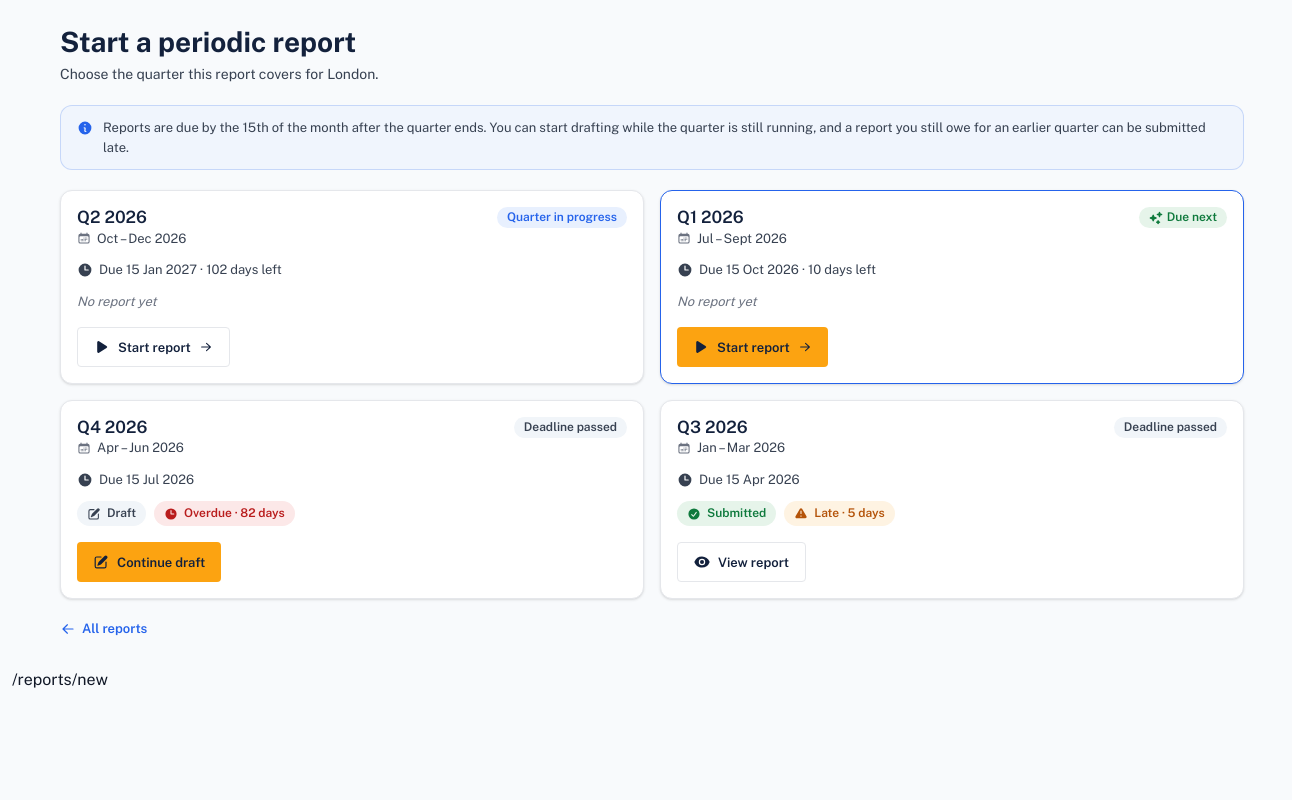
it: StartReportPage › shows why a report could not be started
Click the button with aria-label "Start the Q1 2026 report" at (752, 347), box x1=677 y1=327 x2=828 y2=367
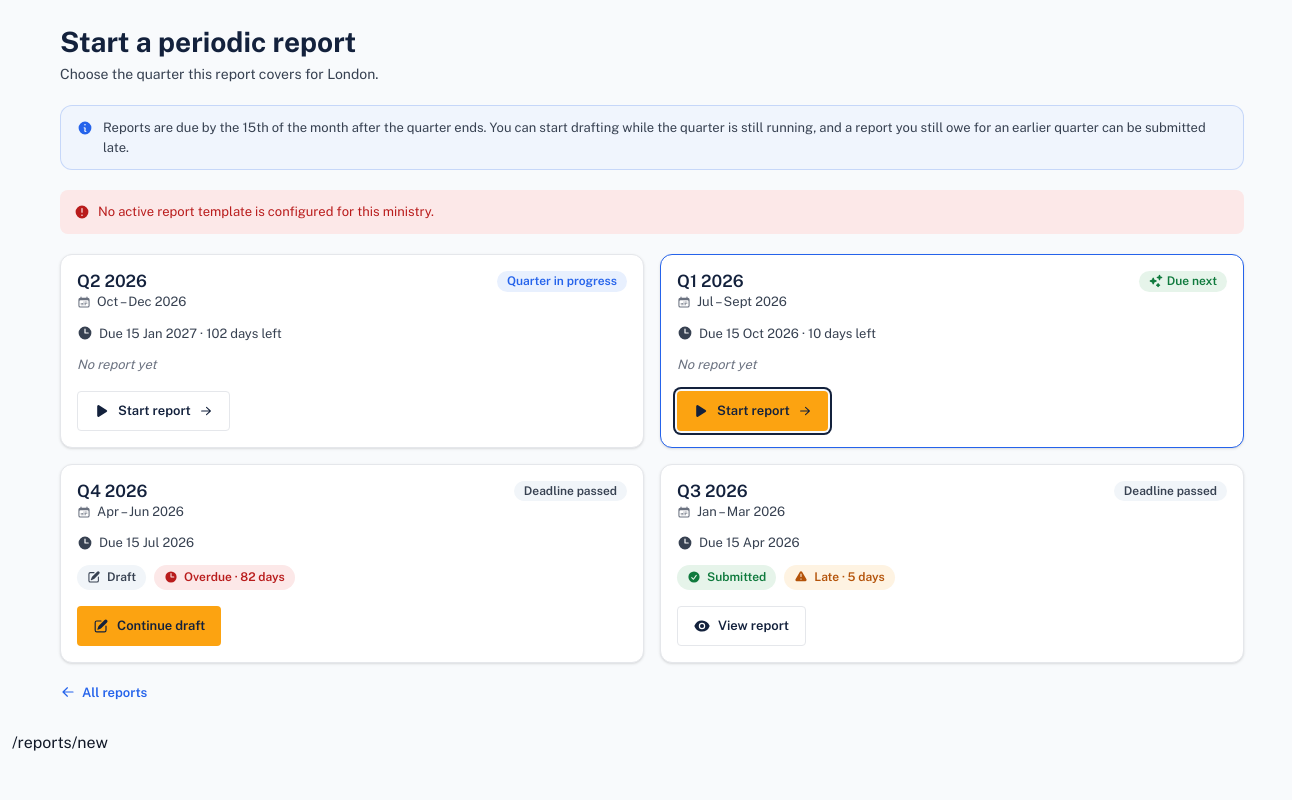
Expected: the message reads "No active report template is configured for this ministry.", x1=98 y1=204 x2=434 y2=219
